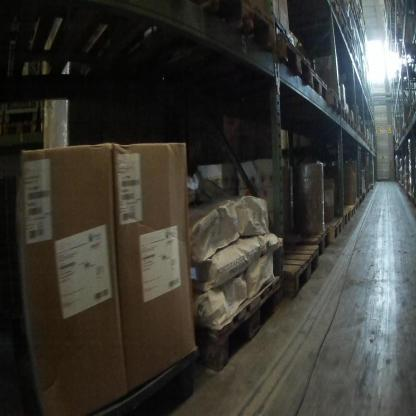pallets: (194, 184, 378, 374), (269, 18, 377, 145), (275, 182, 379, 300)
